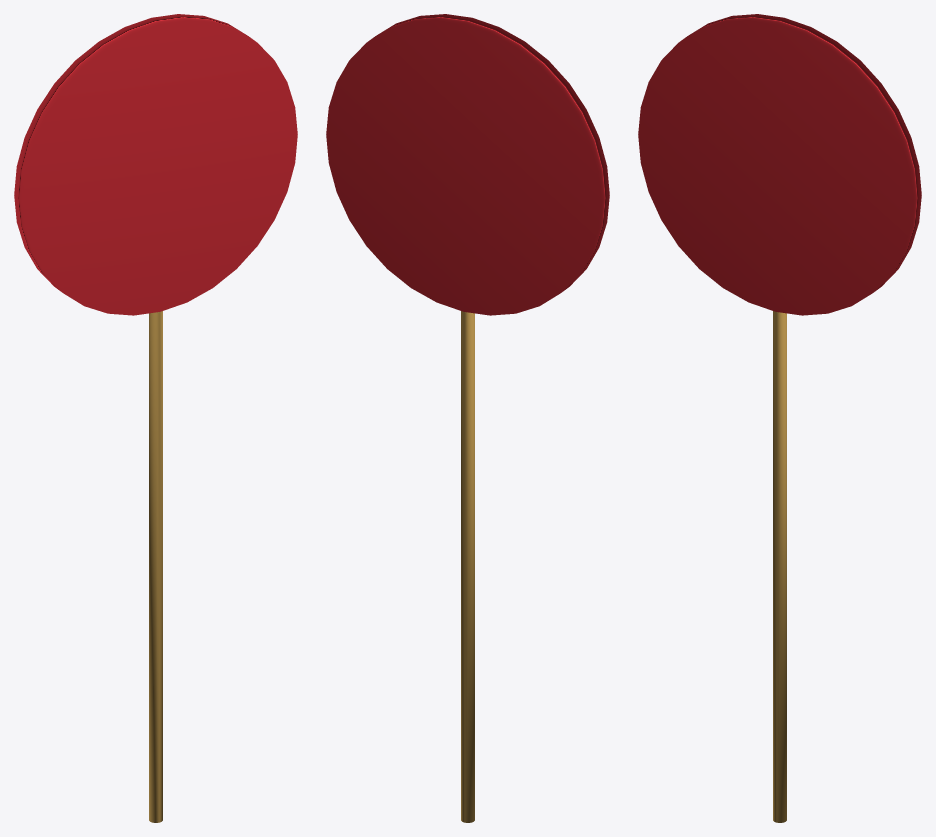
Rendered from yellowstop.glb.
The picture shows the model from 3 angles, left to right: view 1: azimuth 30°, elevation 25°; view 2: azimuth 150°, elevation 25°; view 3: azimuth 330°, elevation 25°; orthographic projection.
Visible parts, largest first — view 1: yellowstop; view 2: yellowstop; view 3: yellowstop.
Part boxes in pixels (left/top/right/bottom): yellowstop: left=14, top=14, right=297, bottom=822; yellowstop: left=326, top=14, right=609, bottom=822; yellowstop: left=638, top=14, right=921, bottom=822.
Size of the model in its own units: 2 by 5.56 by 0.1139.
